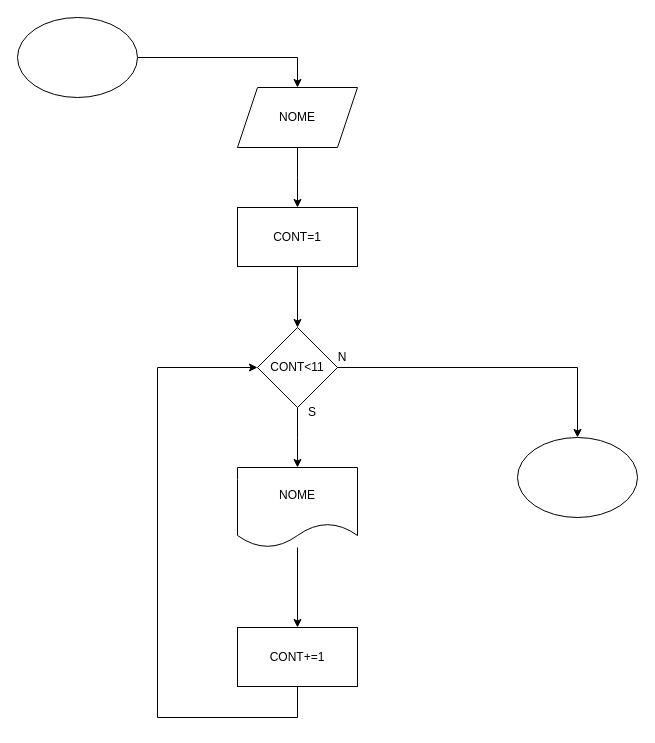
Some shapes in this 655 by 743 pixel diagram are drawn without their labels. The centre of each missing label's shape, as x and y in pixels:
FIM: the point at 577,477
INICIO: the point at 77,57
